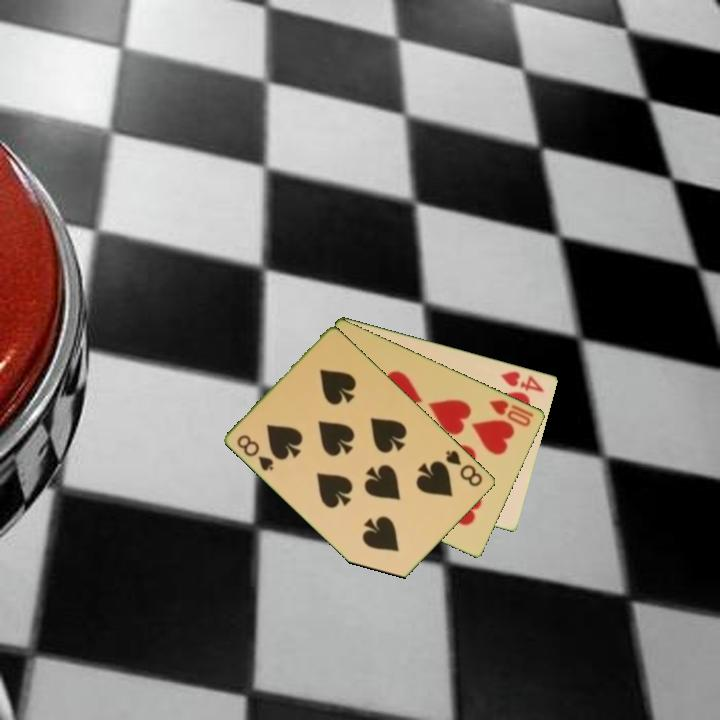10h: (486, 396, 537, 429)
4h: (498, 367, 547, 395)
8s: (442, 446, 486, 489), (234, 431, 277, 474)
